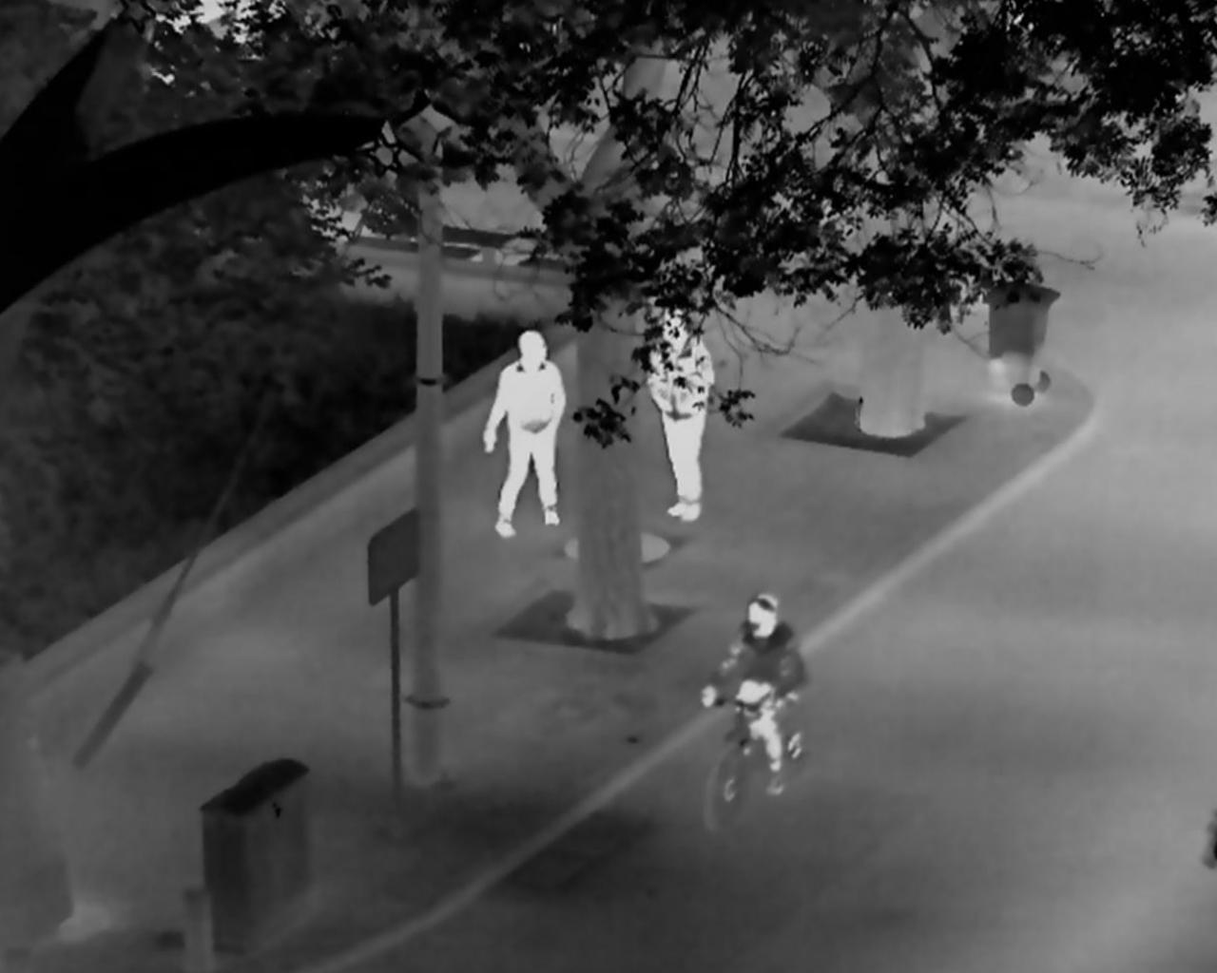person: (702, 593, 807, 798), (482, 330, 567, 538), (643, 305, 716, 524)
